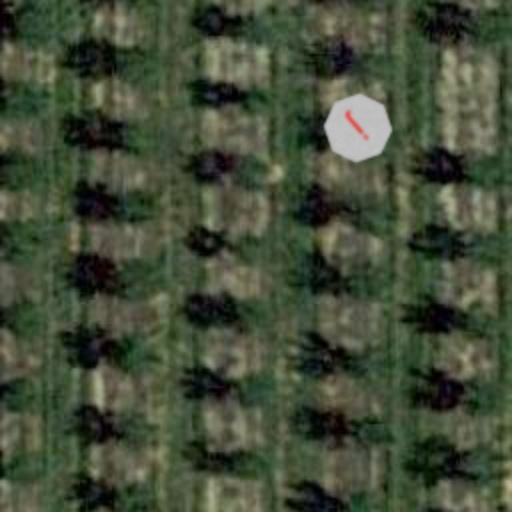octagon: (308, 78, 408, 178)
